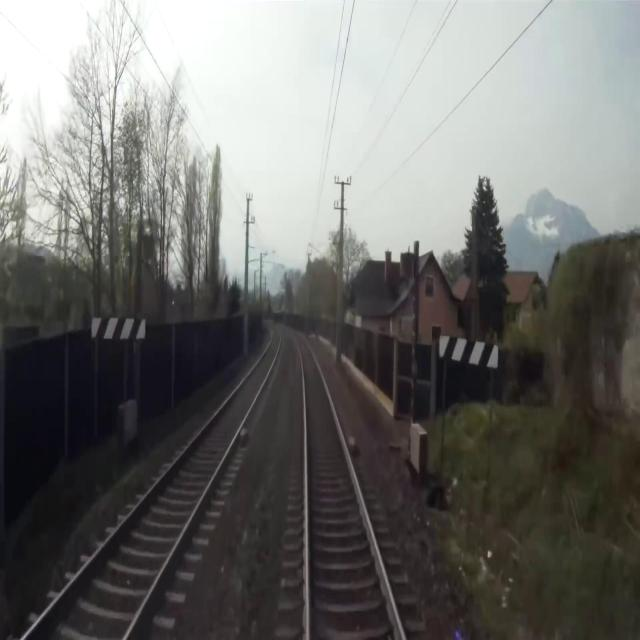rail-track: (24, 331, 278, 639), (297, 335, 402, 639)
